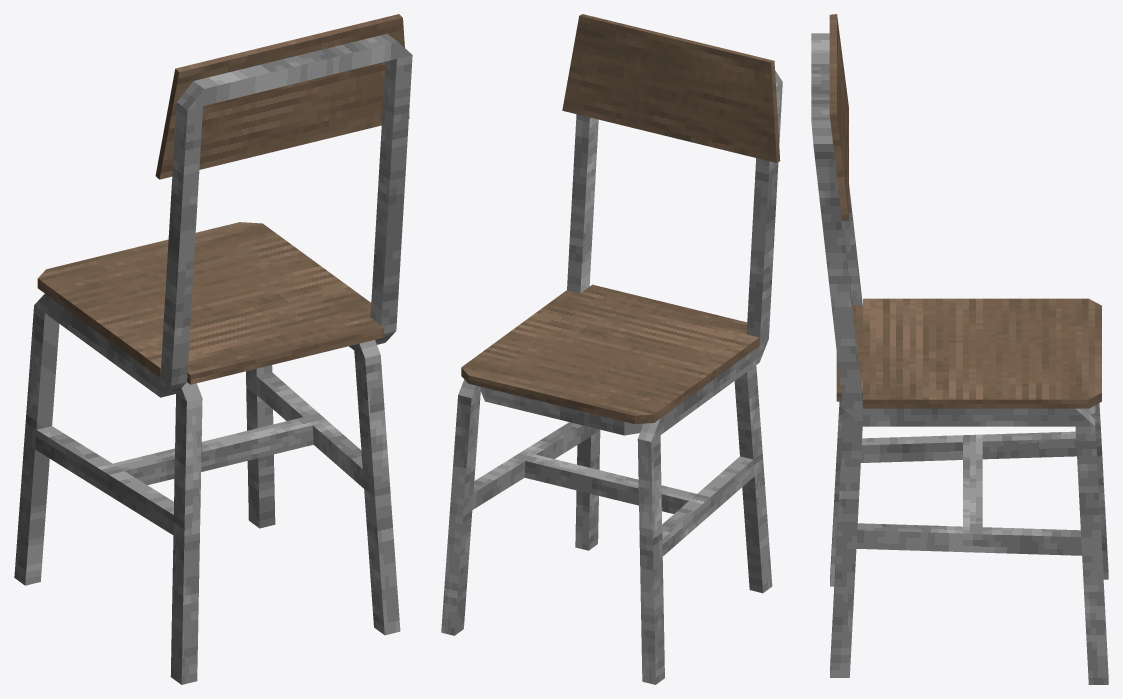
Rendered from chair.glb.
The picture shows the model from 3 angles, left to right: view 1: azimuth 30°, elevation 25°; view 2: azimuth 150°, elevation 25°; view 3: azimuth 270°, elevation 25°; orthographic projection. The views are drawn at different scales.
Parts seen in each view (by area): view 1: Chair; view 2: Chair; view 3: Chair.
Part boxes in pixels (box(x1,y1,x2,y2)): Chair: box(14, 14, 412, 684); Chair: box(441, 14, 782, 684); Chair: box(811, 14, 1108, 684).
Size of the model in its own units: 0.4205 by 0.9867 by 0.471.
Materials: 2 (2 with a texture image).
